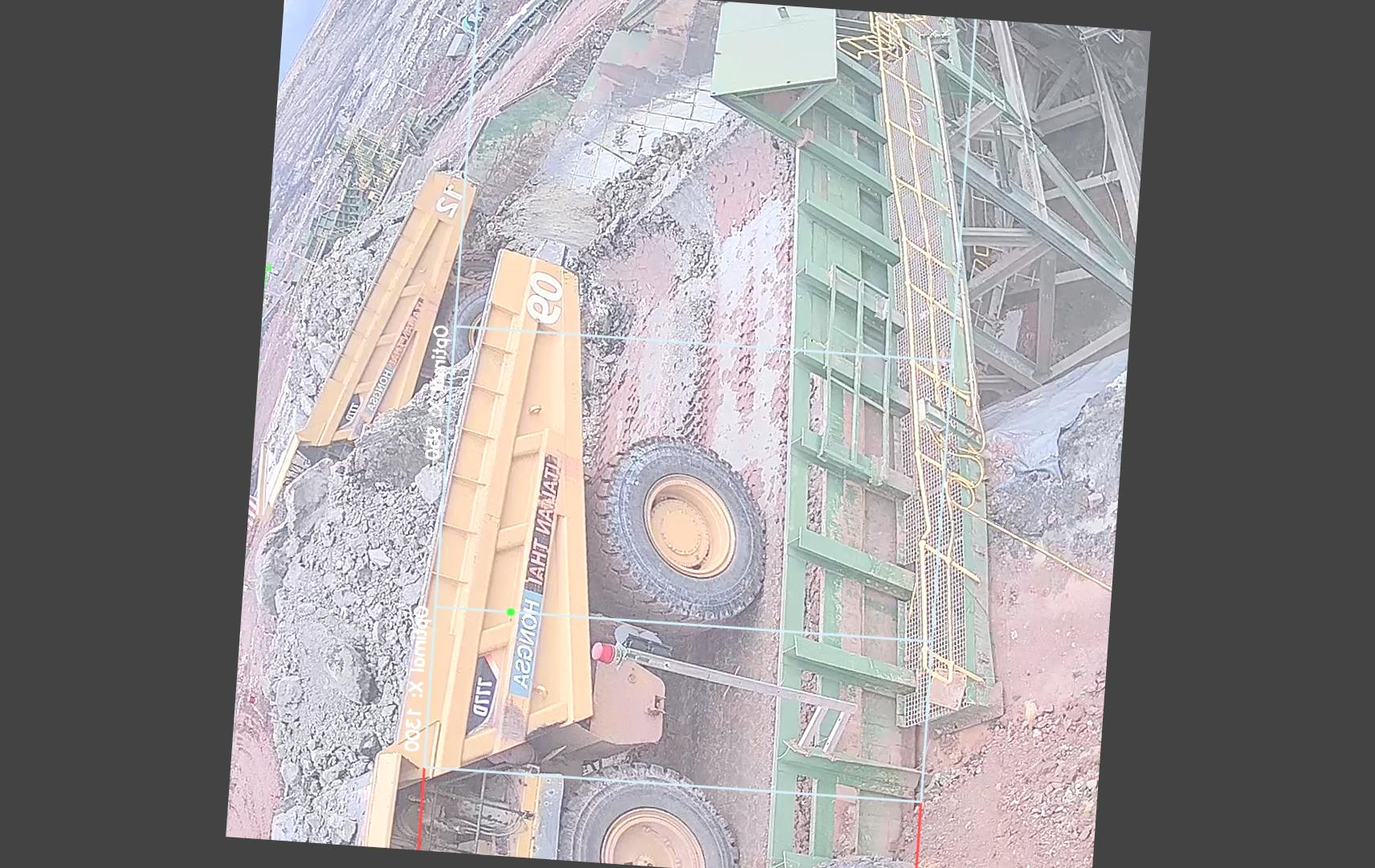company: (506, 439, 564, 712)
full_load: (248, 379, 460, 747)
mining_truck: (230, 233, 794, 868)
tail_number: (518, 262, 571, 333)
truck_size: (453, 649, 501, 733)
